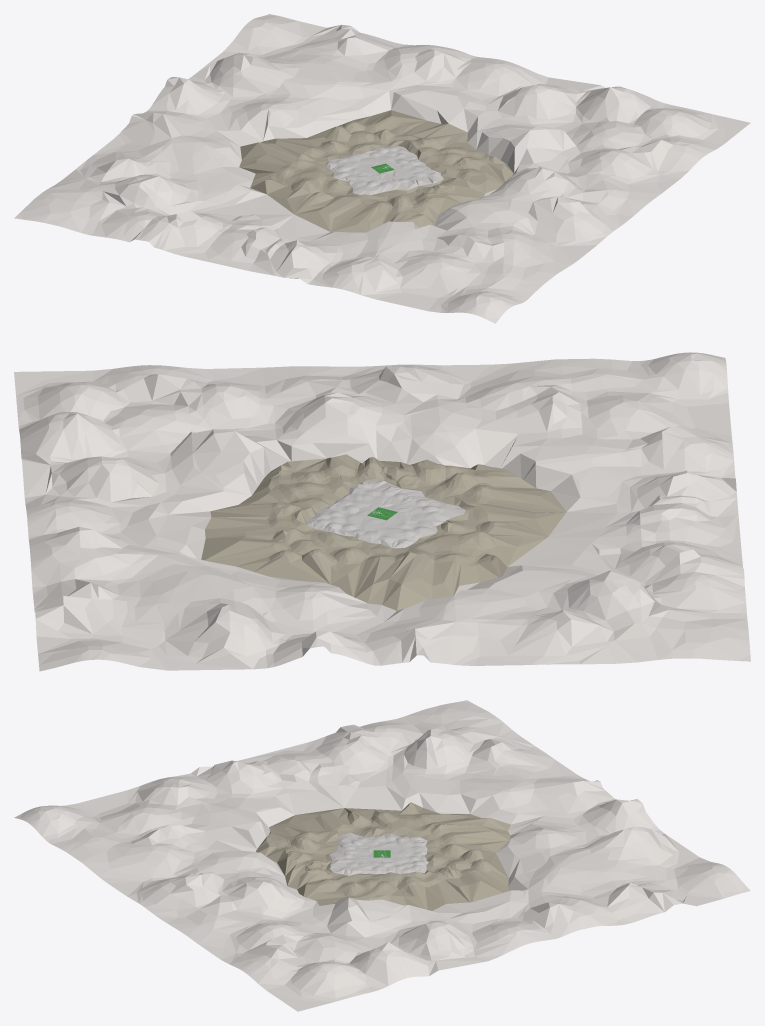
Rendered from big_level.fbx.
3 renders of one model, top to bottom at view 1: azimuth 30°, elevation 25°; view 2: azimuth 150°, elevation 25°; view 3: azimuth 270°, elevation 25°, orthographic. The views are drawn at different scales.
Visible parts, largest first — view 1: terrain; view 2: terrain; view 3: terrain.
Part boxes in pixels (x1,y1,x2,y2): terrain: [14, 14, 750, 323]; terrain: [14, 352, 750, 671]; terrain: [14, 700, 750, 1011].
Size of the model in its own units: 171872 by 7679 by 171872.
